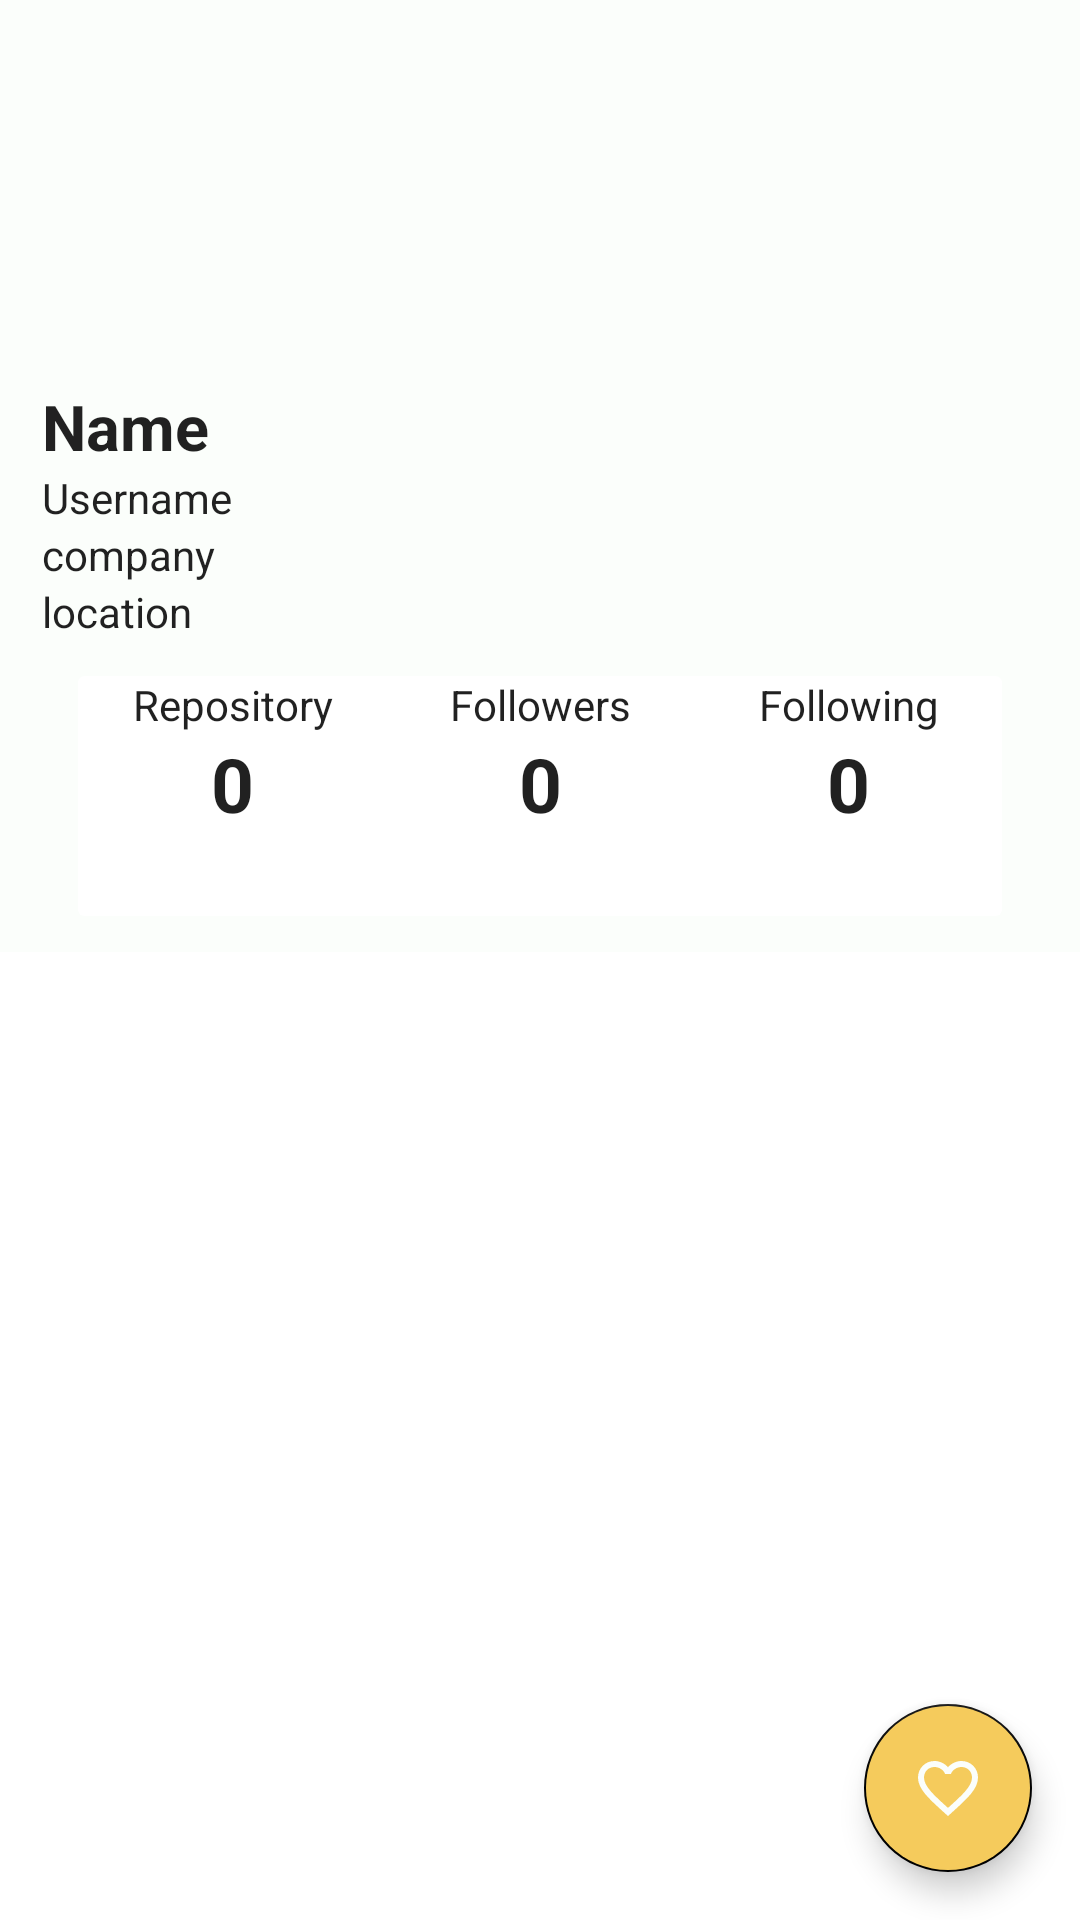

Point at icon controls on the screen. Image size 1080×1920, points as point (x, y).
favorite border: point (948, 1788)
